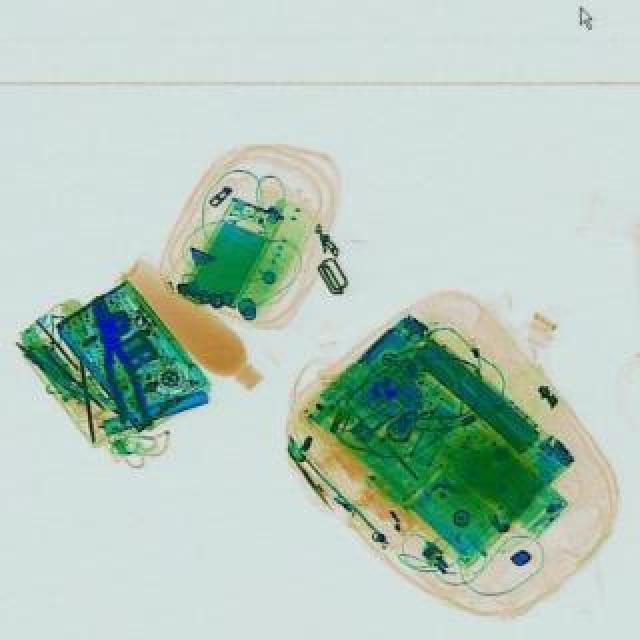wrench: (84, 290, 152, 430)
